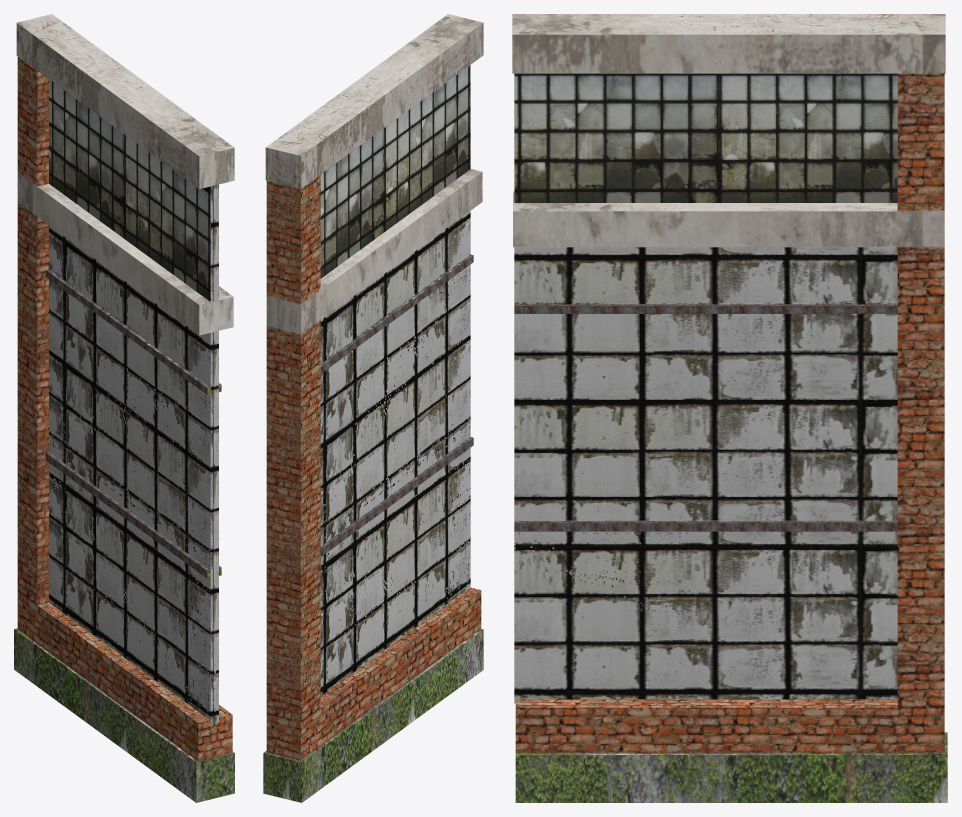
Rendered from Stena_001.fbx.
The picture shows the model from 3 angles, left to right: view 1: azimuth 30°, elevation 25°; view 2: azimuth 150°, elevation 25°; view 3: azimuth 270°, elevation 25°; orthographic projection. The views are drawn at different scales.
Parts seen in each view (by area): view 1: Cube; view 2: Cube; view 3: Cube.
Boxes of the visible parts, bbox=[...] form: Cube: bbox=[14, 14, 234, 802]; Cube: bbox=[263, 14, 483, 802]; Cube: bbox=[512, 14, 947, 802].
Bounding box in the file's own units: 200 × 3190 × 1641.
1 material, 1 textured.
